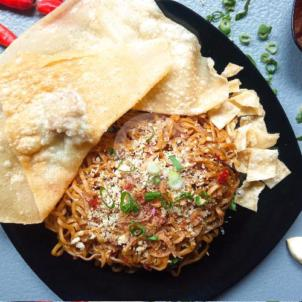Mie: (69, 125, 247, 272)
